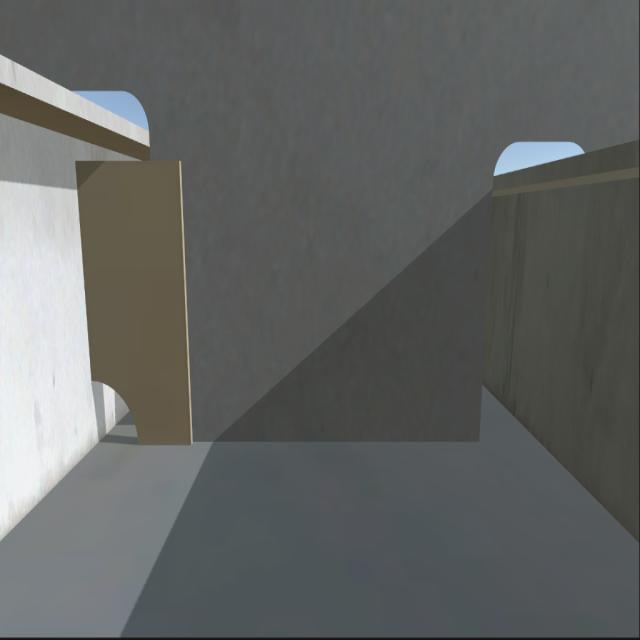fillet_hole: (94, 372, 139, 441)
fillet_yong_jeop_jang: (135, 436, 480, 452)
longi_yong_jeop_jang: (77, 172, 87, 371)
plate_CP01: (91, 154, 186, 446)
